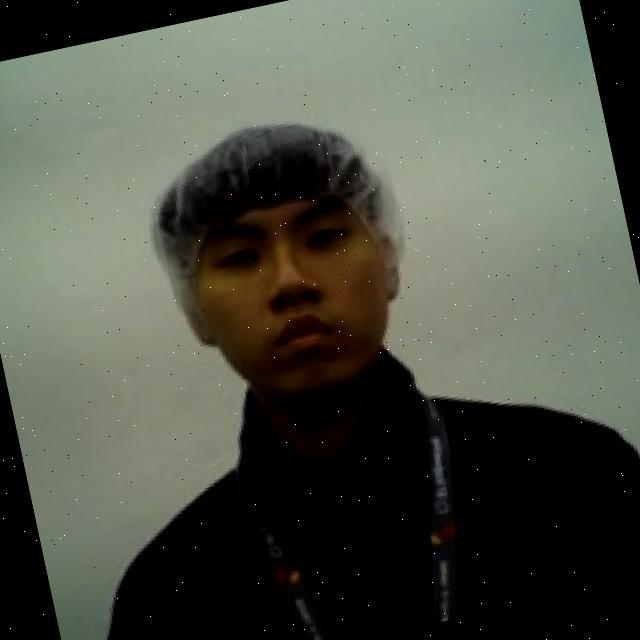gloves: (125, 96, 420, 355)
no_hairnet: (170, 222, 424, 430)
